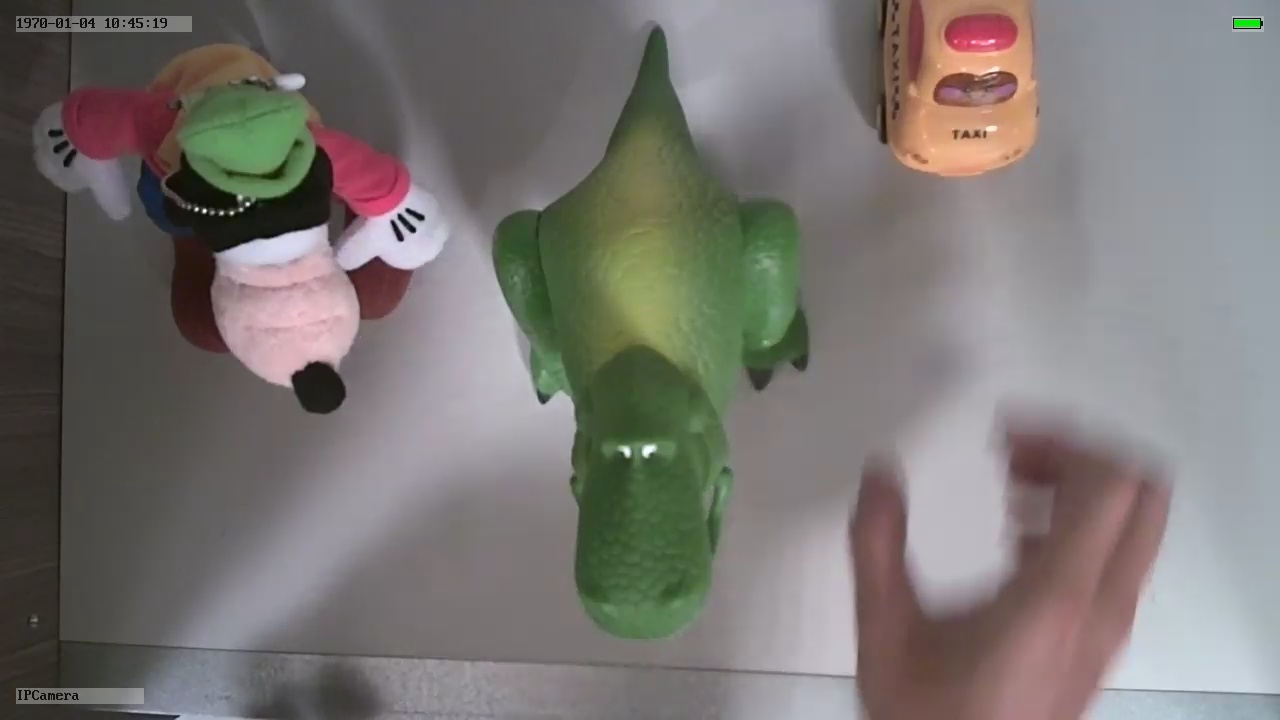goofy: (31, 41, 446, 415)
rex: (492, 110, 812, 645)
